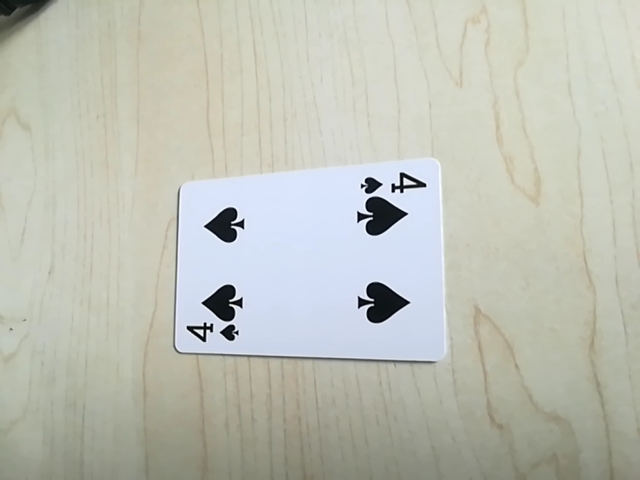ht 4: (359, 166, 428, 197), (176, 320, 244, 350)
